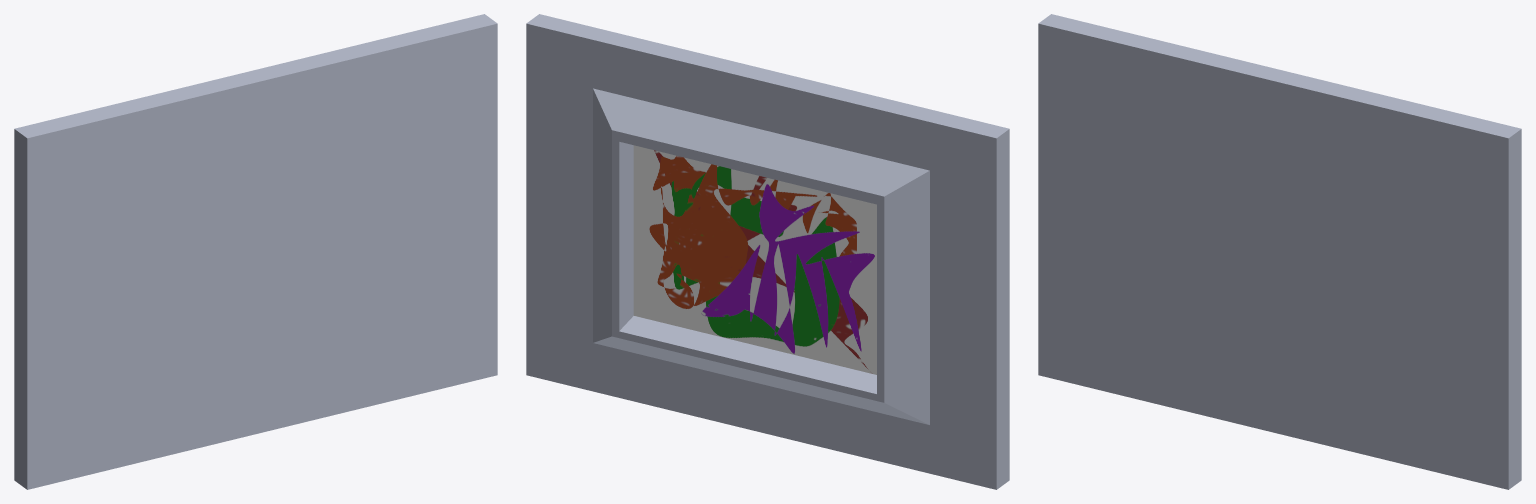
Rendered from Colorpace_Art.fbx.
3 views of the same model, side by side, from view 1: azimuth 30°, elevation 25°; view 2: azimuth 150°, elevation 25°; view 3: azimuth 330°, elevation 25° (orthographic).
Parts seen in each view (by area): view 1: Colorpace; view 2: Colorpace, Image.004; view 3: Colorpace.
Boxes of the visible parts, bbox=[...] form: Colorpace: bbox=[14, 14, 497, 489]; Colorpace: bbox=[526, 14, 1009, 489]; Image.004: bbox=[633, 145, 876, 374]; Colorpace: bbox=[1038, 14, 1521, 489].
Bounding box in the file's own units: 1349 × 963 × 131.
Materials: 2 (1 with a texture image).
